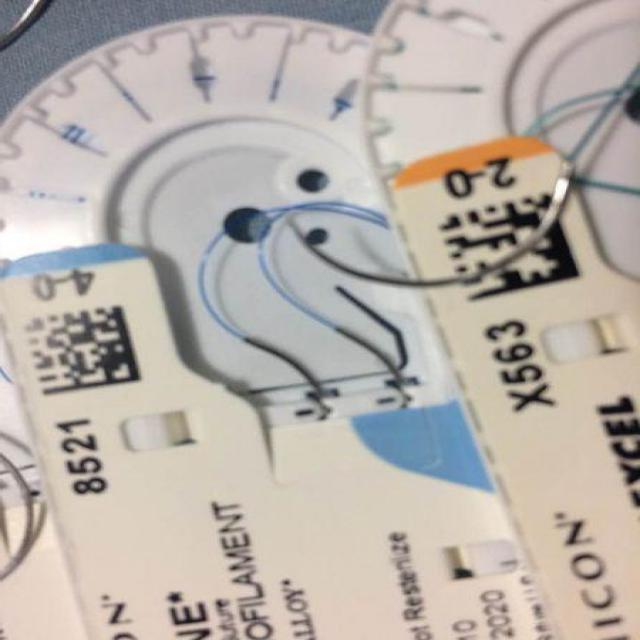Needle: (279, 172, 579, 292), (327, 324, 410, 396), (240, 339, 326, 406)
